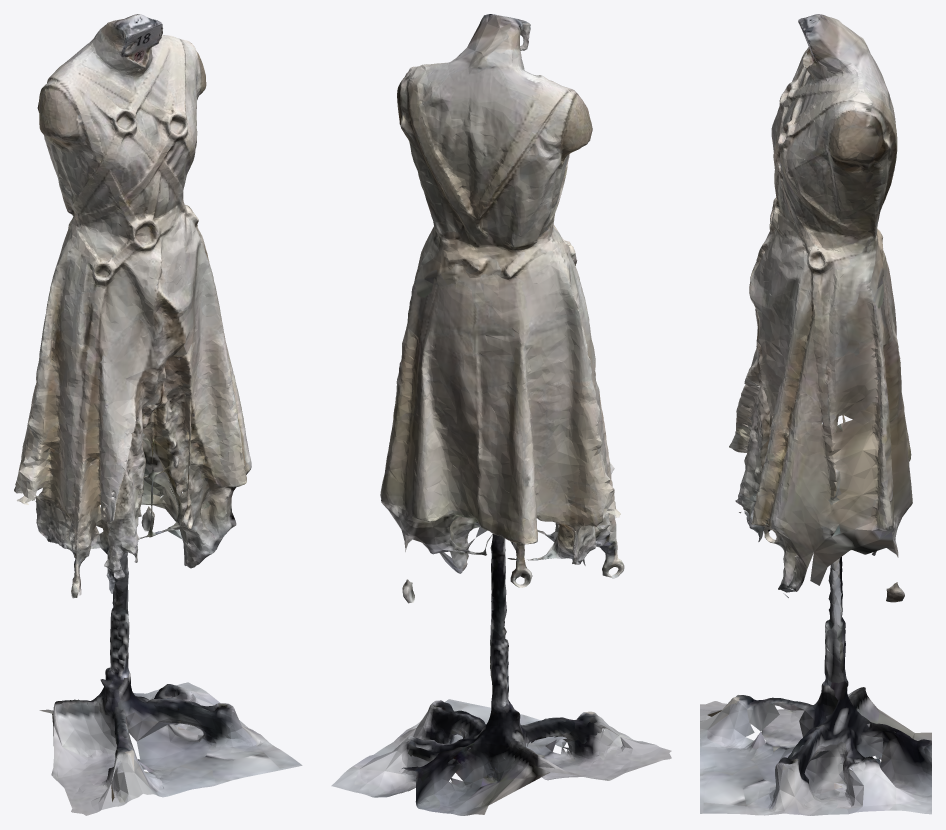
File: p-dress__20261103_optimized2.glb
The picture shows the model from 3 angles, left to right: view 1: azimuth 30°, elevation 25°; view 2: azimuth 150°, elevation 25°; view 3: azimuth 270°, elevation 25°; orthographic projection. The views are drawn at different scales.
Visible parts, largest first — view 1: mesh; view 2: mesh; view 3: mesh.
Boxes of the visible parts, x1=… form: mesh: x1=14, y1=14, x2=302, y2=815; mesh: x1=331, y1=14, x2=671, y2=815; mesh: x1=700, y1=14, x2=931, y2=815.
Size of the model in its own units: 0.5261 by 1.64 by 0.4621.
Materials: 1 (1 with a texture image).
